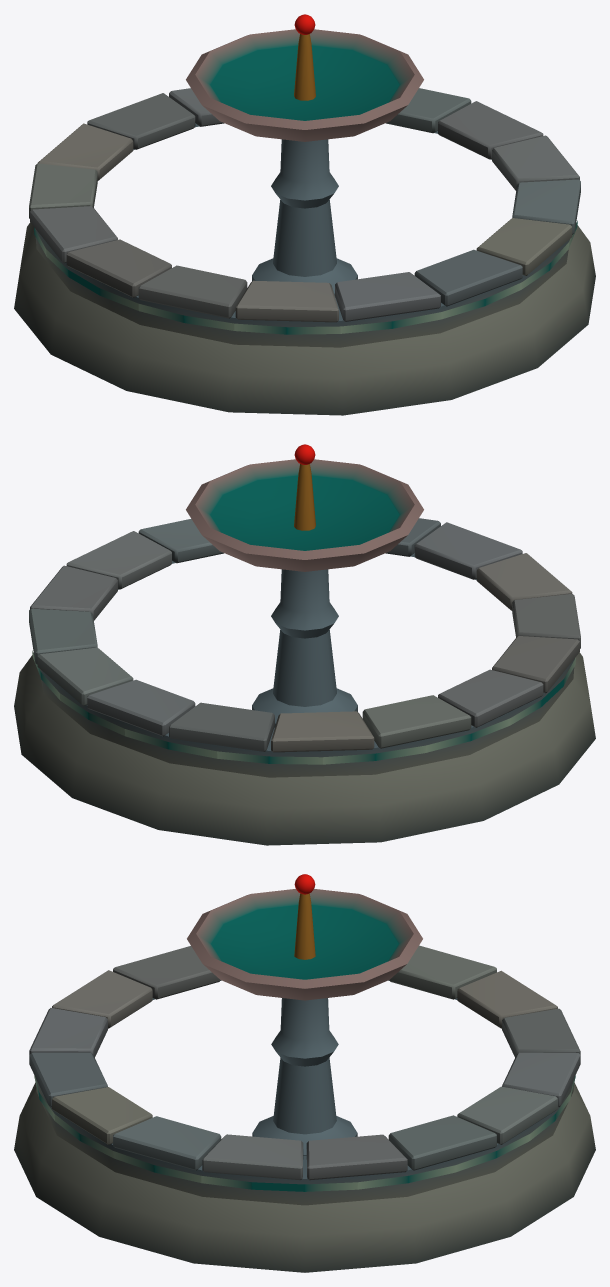
The model's file is fountain.glb.
The picture shows the model from 3 angles, top to bottom: view 1: azimuth 30°, elevation 25°; view 2: azimuth 150°, elevation 25°; view 3: azimuth 270°, elevation 25°; orthographic projection.
Visible parts, largest first — view 1: fountain-stone, fountain-rim, fountain-glaze, fountain-belt, fountain-brass; view 2: fountain-stone, fountain-rim, fountain-glaze, fountain-belt, fountain-brass; view 3: fountain-stone, fountain-rim, fountain-glaze, fountain-belt, fountain-brass.
Boxes of the visible parts, bbox=[...] form: fountain-stone: bbox=[14, 29, 595, 415]; fountain-rim: bbox=[29, 88, 580, 322]; fountain-glaze: bbox=[210, 45, 399, 120]; fountain-belt: bbox=[34, 220, 577, 334]; fountain-brass: bbox=[294, 34, 315, 100]; fountain-stone: bbox=[14, 459, 595, 845]; fountain-rim: bbox=[29, 518, 580, 752]; fountain-glaze: bbox=[210, 475, 399, 550]; fountain-belt: bbox=[32, 650, 575, 764]; fountain-brass: bbox=[294, 464, 315, 530]; fountain-stone: bbox=[14, 889, 595, 1272]; fountain-rim: bbox=[29, 945, 580, 1180]; fountain-glaze: bbox=[211, 905, 398, 979]; fountain-belt: bbox=[34, 1075, 575, 1191]; fountain-brass: bbox=[294, 893, 315, 959].
Bounding box in the file's own units: 3.1 × 1.61 × 3.1.
